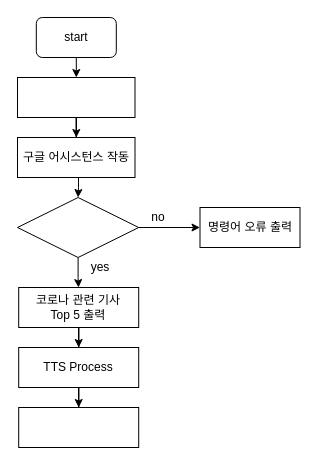
This 318x465 diagram has some shape labels left out. The shapes that lost their labels are listed below. From the top down, each one's centre as x and y in pixels, then its label:
point 75,97: 사용자가 음성으로 명령
point 77,227: STT Process
point 78,427: MagicMirror에서 음성으로 안내
